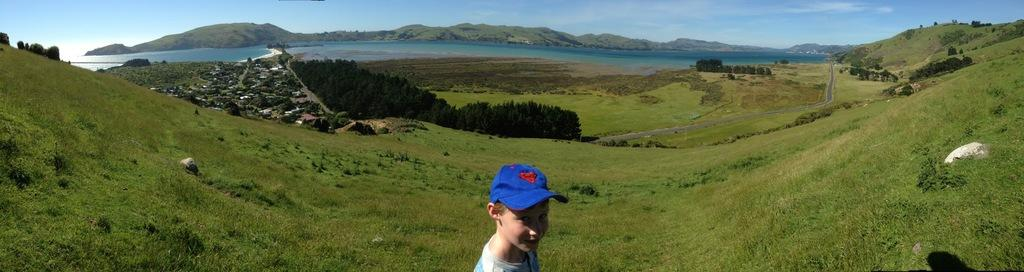Hat: (490, 160, 570, 214)
